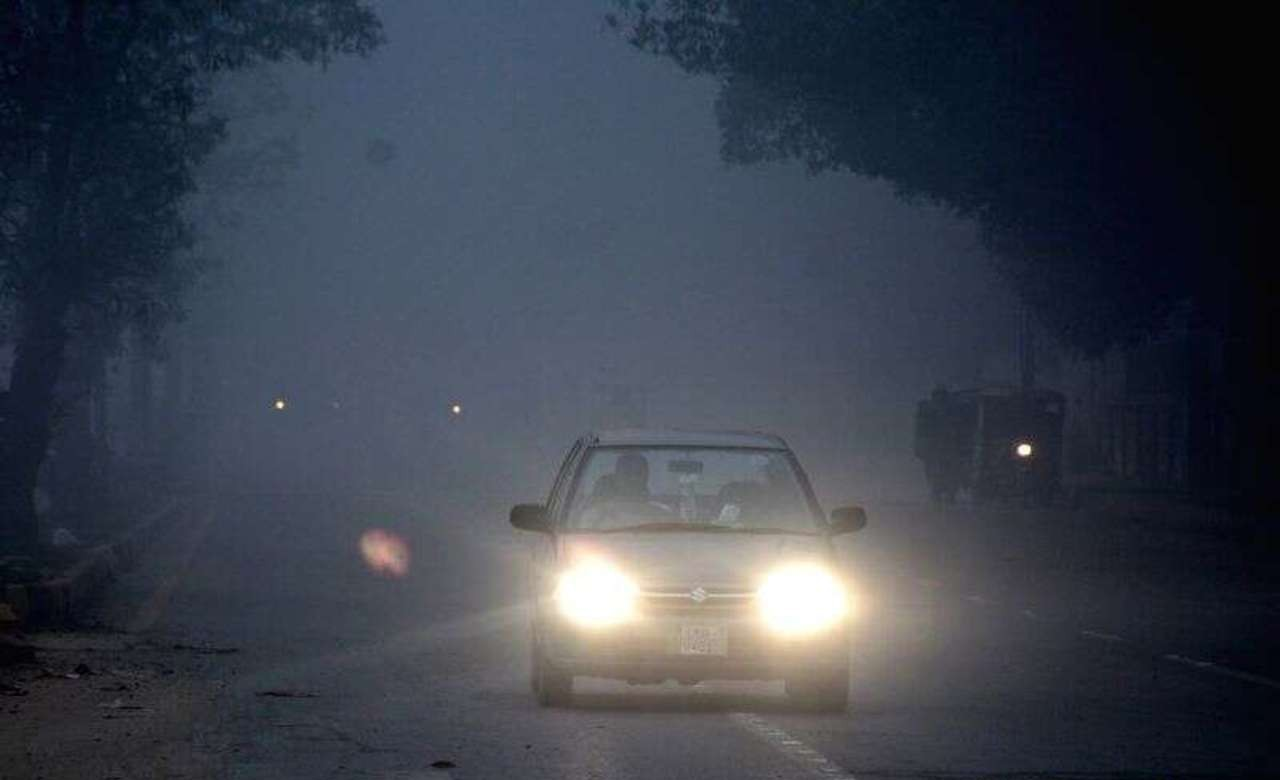car: (509, 431, 873, 710)
